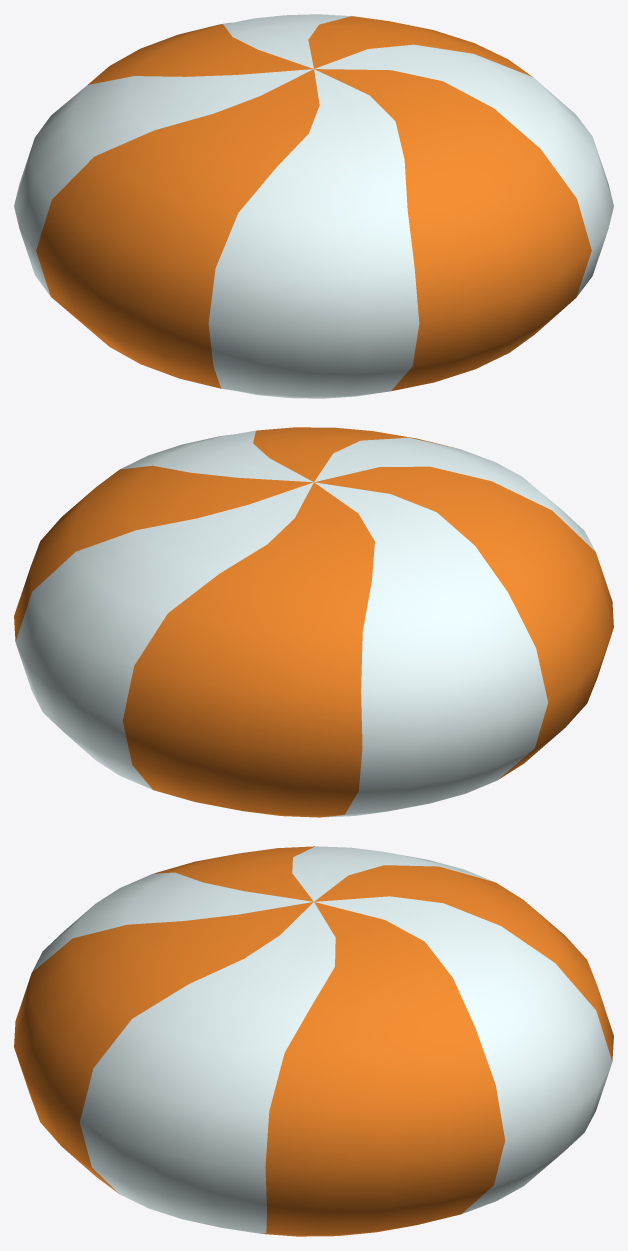
The model's file is Mint_A_01.fbx.
The picture shows the model from 3 angles, top to bottom: view 1: azimuth 30°, elevation 25°; view 2: azimuth 150°, elevation 25°; view 3: azimuth 270°, elevation 25°; orthographic projection.
Parts seen in each view (by area): view 1: Mint_A_01_LOD0; view 2: Mint_A_01_LOD0; view 3: Mint_A_01_LOD0.
Part boxes in pixels (x1,y1,x2,y2): Mint_A_01_LOD0: (14,14,613,398); Mint_A_01_LOD0: (14,427,613,817); Mint_A_01_LOD0: (14,846,613,1236).
Size of what is drawn, in the model's own units: 420 by 216 by 420.
